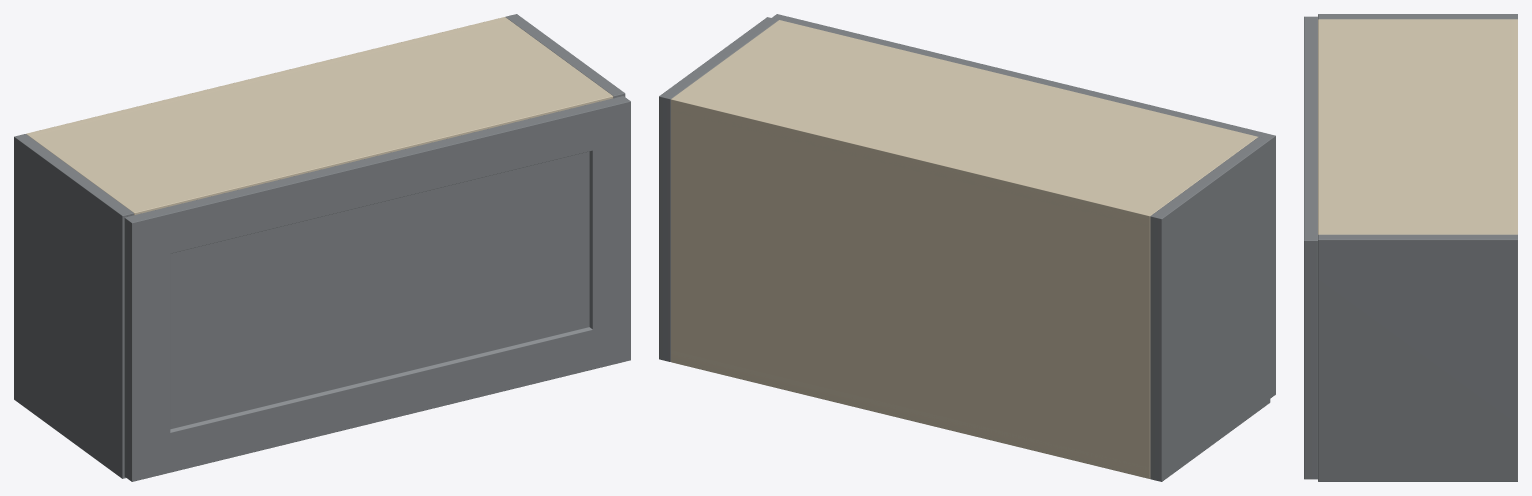
Rendered from oppein-ply-gss-wsl3015.glb.
3 views of the same model, side by side, from view 1: azimuth 30°, elevation 25°; view 2: azimuth 150°, elevation 25°; view 3: azimuth 270°, elevation 25° (orthographic). The views are drawn at different scales.
Parts seen in each view (by area): view 1: Door, Cabinet top, Cabinet side, Cabinet back, Cabinet side.001; view 2: Cabinet back, Cabinet top, Cabinet side, Cabinet bottom, Door, Cabinet side.001; view 3: Cabinet side.001, Cabinet top, Door, Cabinet back, Cabinet side.
Part boxes in pixels (x1,y1,x2,y2): Door: (124,96,630,481); Cabinet top: (26,17,613,215); Cabinet side: (14,134,133,478); Cabinet back: (26,17,507,136); Cabinet side.001: (505,14,625,98); Cabinet back: (671,96,1153,478); Cabinet top: (671,20,1257,227); Cabinet side: (1150,137,1270,481); Cabinet bottom: (671,350,1149,478); Door: (772,14,1275,398); Cabinet side.001: (659,17,778,361); Cabinet side.001: (1318,234,1517,481); Cabinet top: (1318,19,1517,234); Door: (1304,16,1317,479); Cabinet back: (1510,19,1517,234); Cabinet side: (1318,14,1517,19).
Size of the model in its own units: 0.762 by 0.381 by 0.3048.
